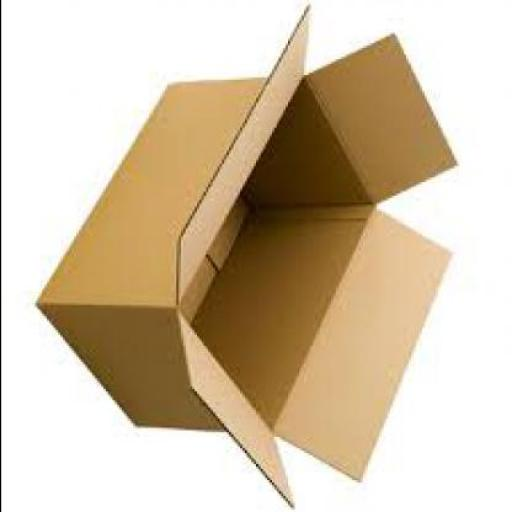cardboard: (36, 2, 460, 504)
